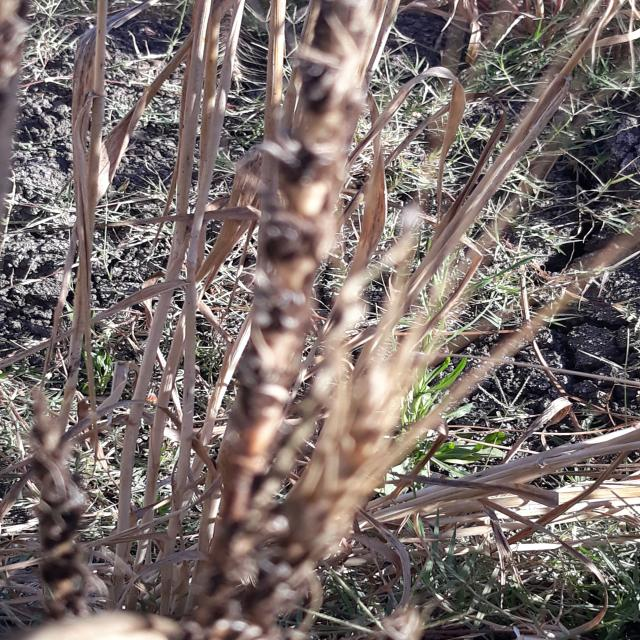loose_charred: (180, 0, 450, 640), (12, 381, 140, 640)
